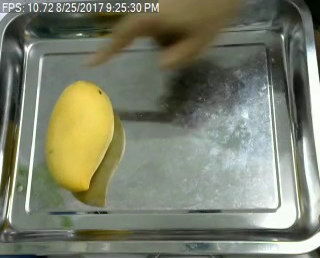Mango: (43, 78, 116, 192)
